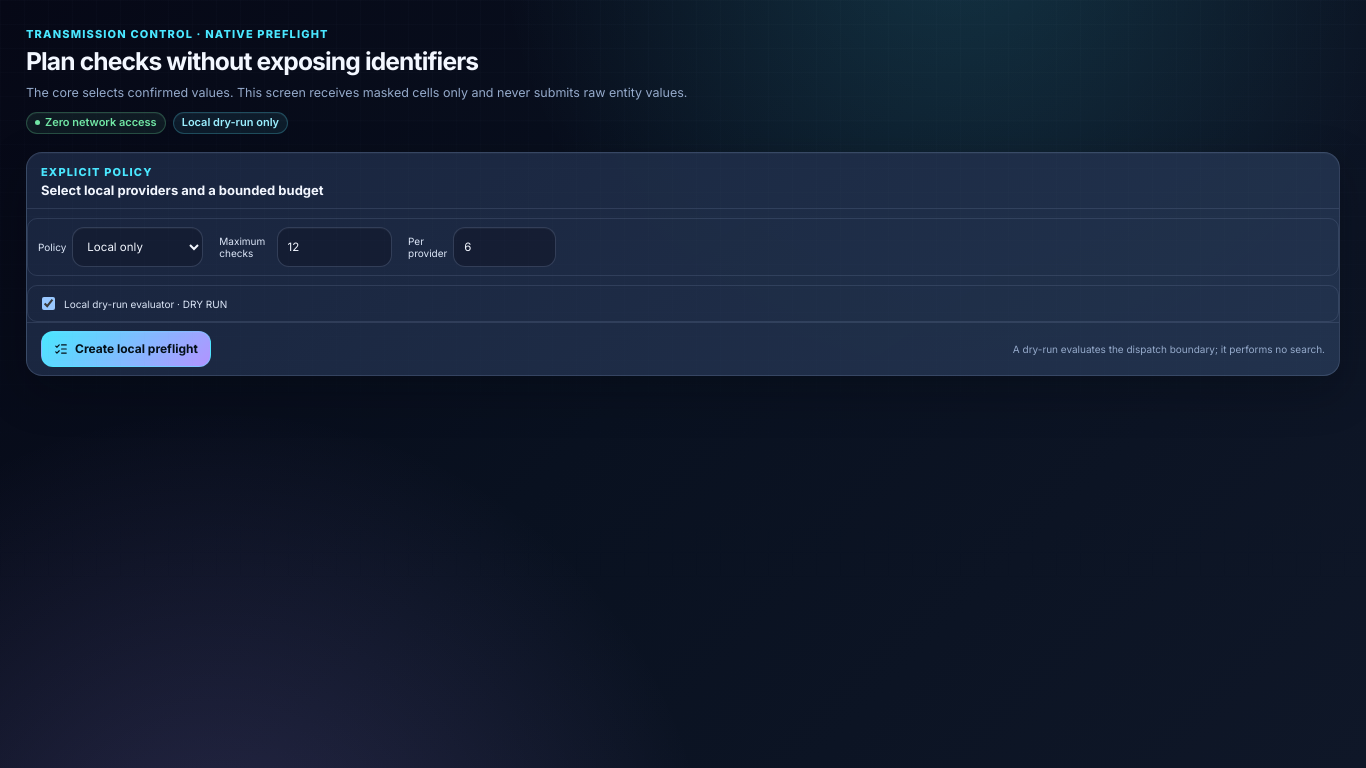
Scenario: native query-policy preflight › creates a masked server-side plan and consumes approval only for dry-run
Expected: the text "Local dry-run evaluator · DRY RUN" is shown, [38,294,227,313]
Click the button "Create local preflight".
click(126, 349)  # box [41,331,211,367]
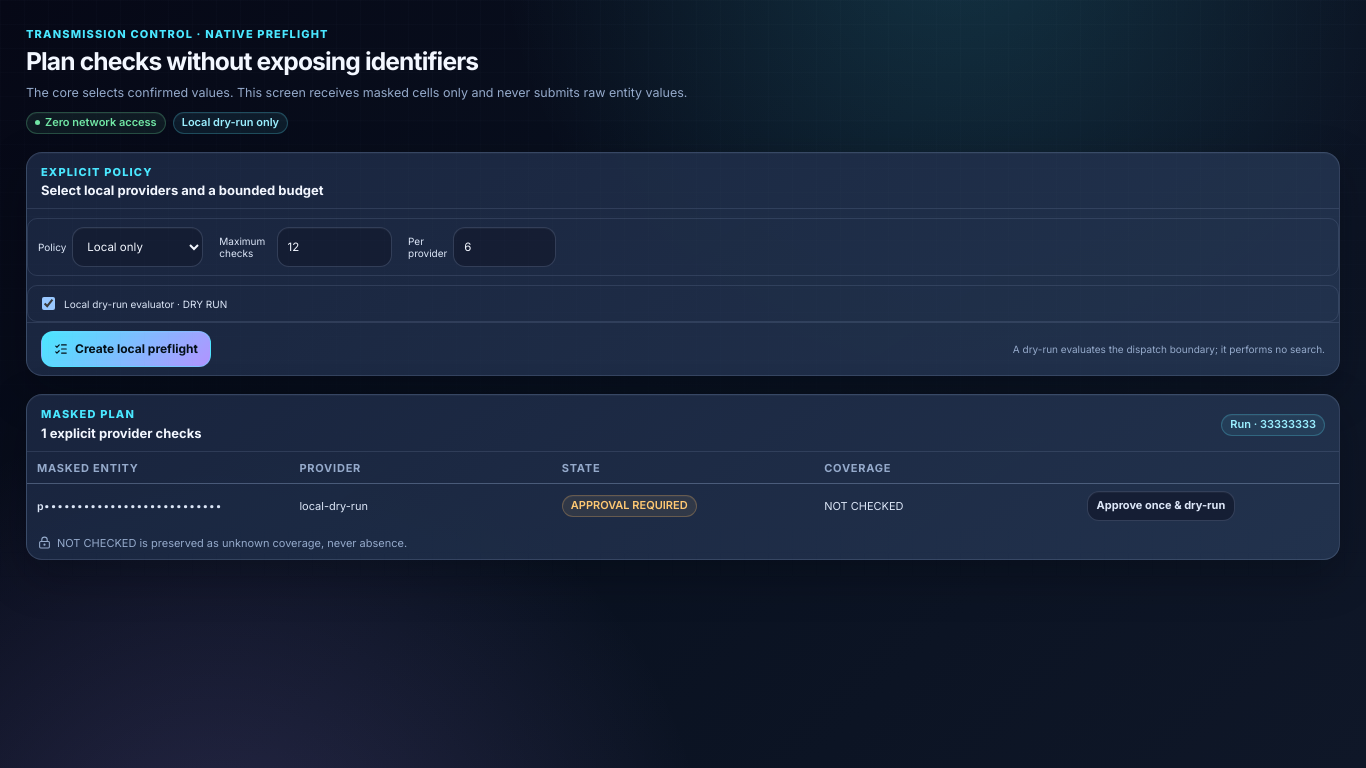
Expected: the column heading "p•••••••••••••••••••••••••••" is shown, [27,484,289,527]
Click the button "Approve once & dry-run".
click(1161, 506)  # box [1087,491,1235,521]
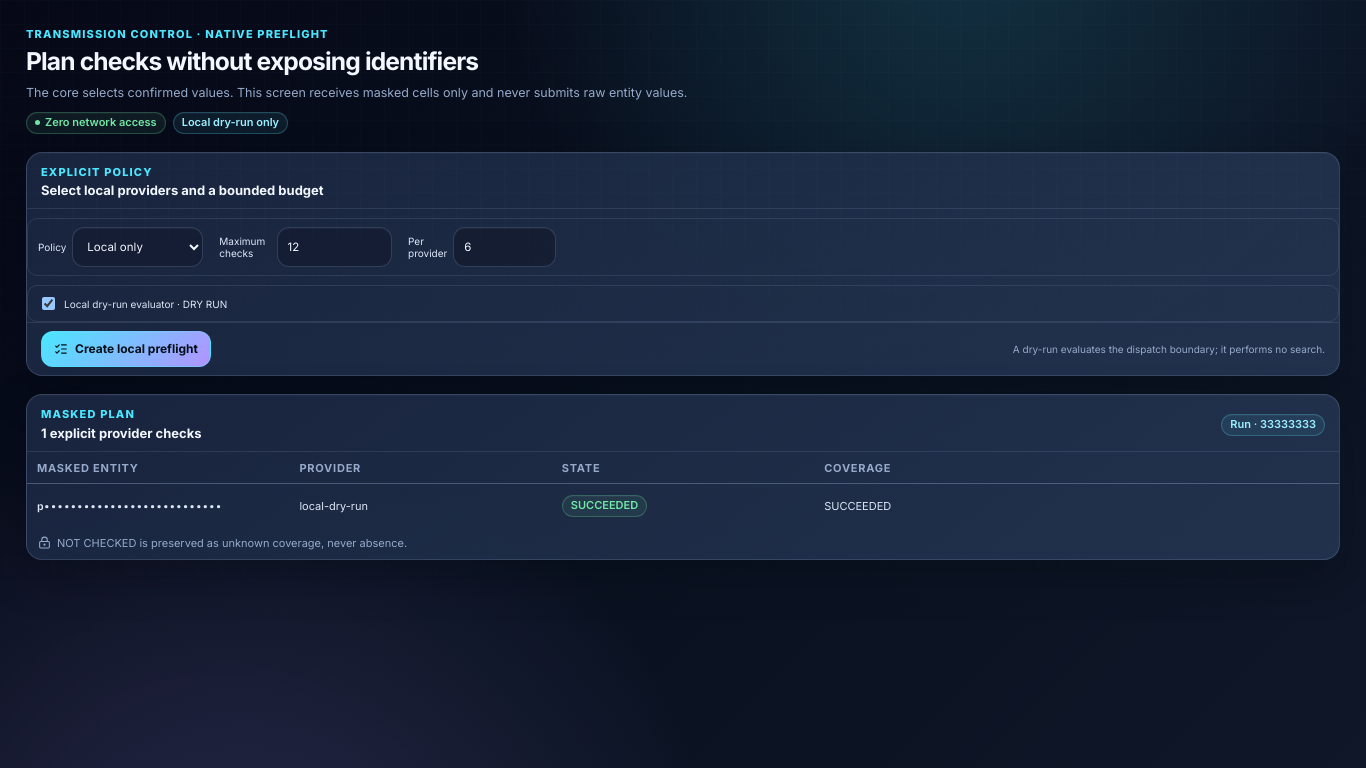
Expected: the text "SUCCEEDED" is shown, [562,495,647,517]
